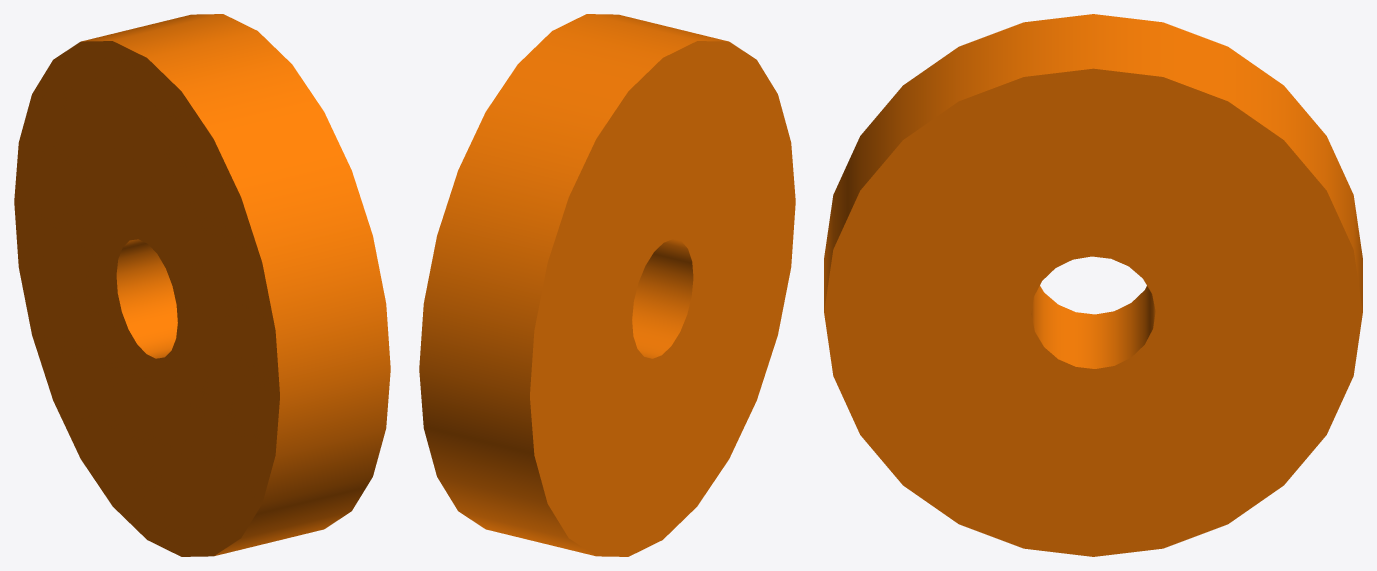
Rendered from original-13.obj.
3 renders of one model, left to right at view 1: azimuth 30°, elevation 25°; view 2: azimuth 150°, elevation 25°; view 3: azimuth 270°, elevation 25°, orthographic.
Visible parts, largest first — view 1: Group13/mesh115/mesh115-geometry#mesh115-geometry; view 2: Group13/mesh115/mesh115-geometry#mesh115-geometry; view 3: Group13/mesh115/mesh115-geometry#mesh115-geometry.
Boxes of the visible parts, <box> form: Group13/mesh115/mesh115-geometry#mesh115-geometry: <box>14,14,390,556</box>; Group13/mesh115/mesh115-geometry#mesh115-geometry: <box>419,14,795,556</box>; Group13/mesh115/mesh115-geometry#mesh115-geometry: <box>824,14,1362,556</box>.
Bounding box in the file's own units: 0.0207 × 0.0863 × 0.0863.
